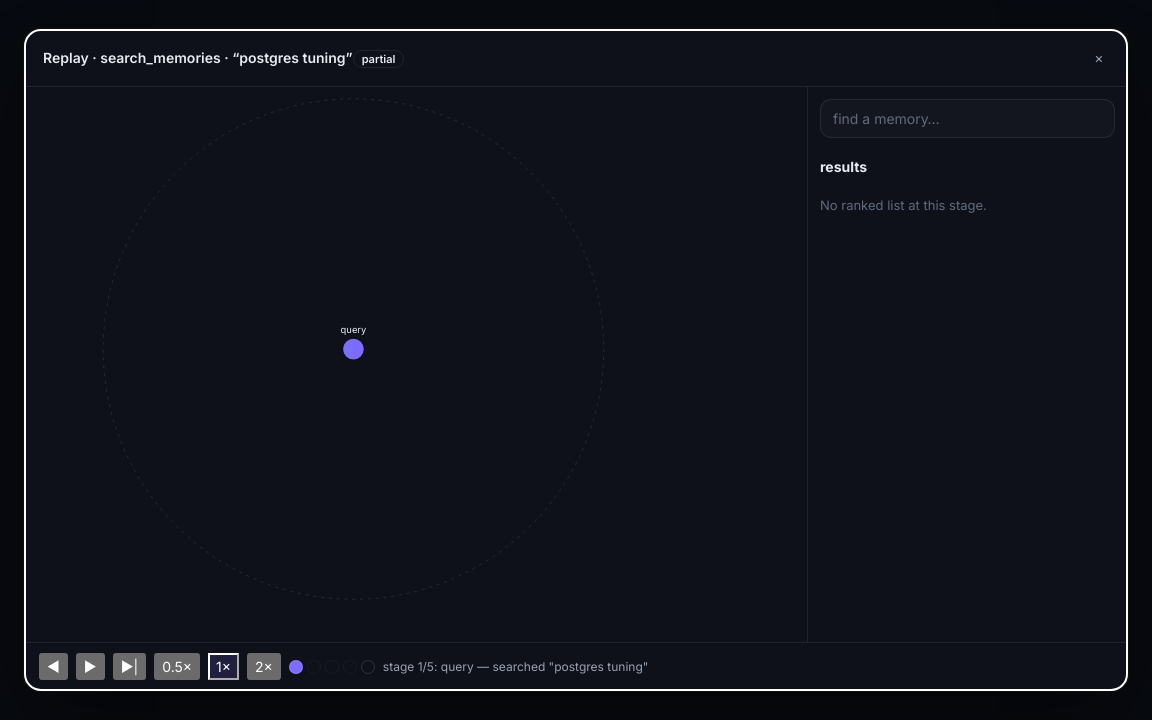
Test: ReplayOverlay › does not claim a miss on a partial replay
Expected: the text "partial" is shown, [353, 50, 404, 68]
Type "zebra" into the search field labelled "find a memory".
click(968, 118); type("zebra")  # box [820, 99, 1115, 138]
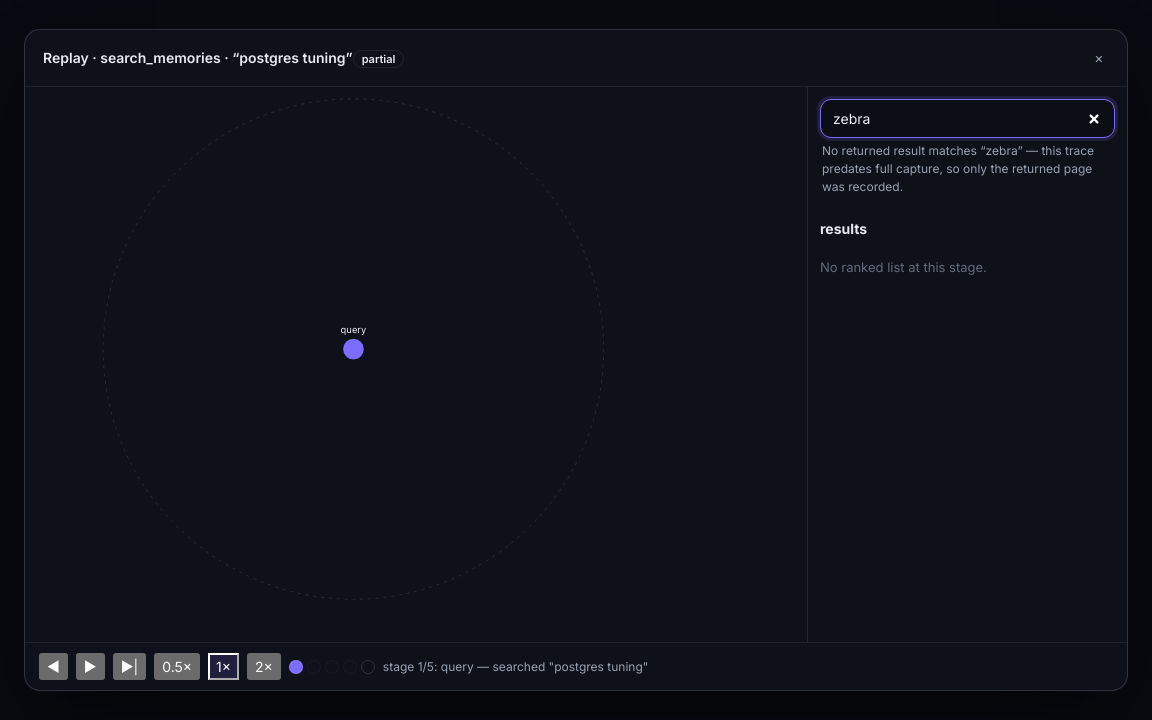
Result: the text "No returned result matches “zebra” — this trace predates full capture" is shown at [822, 143, 1094, 194]
